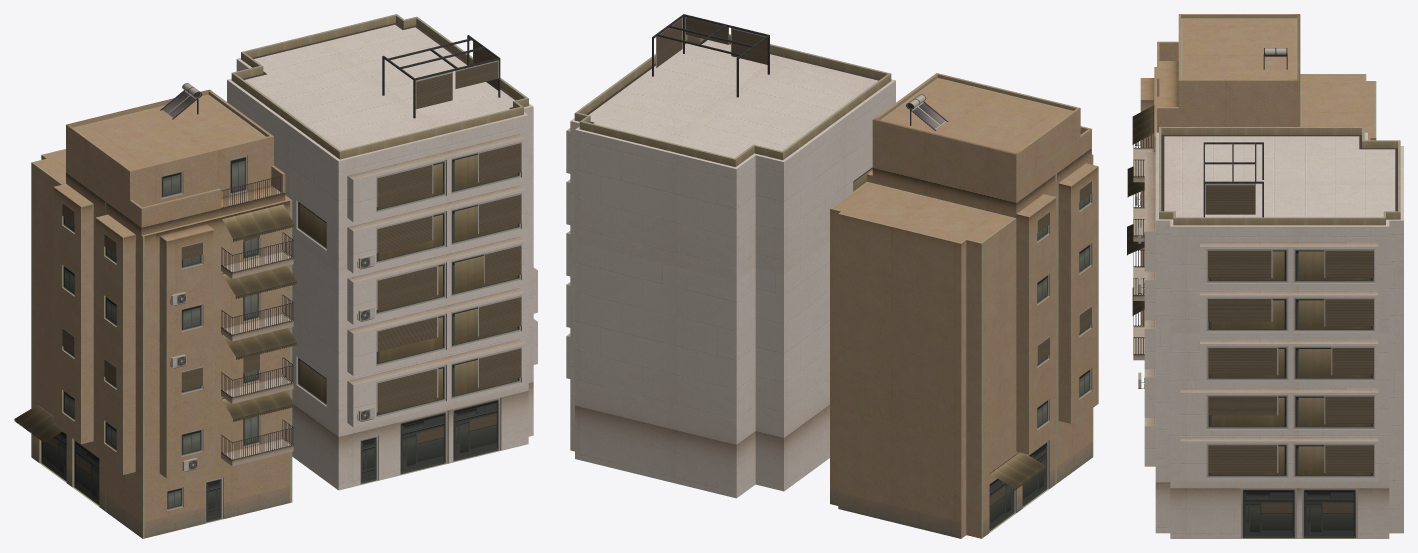
The model's file is modular_modernist_mediterranean_buildings_kit.glb.
3 views of the same model, side by side, from view 1: azimuth 30°, elevation 25°; view 2: azimuth 150°, elevation 25°; view 3: azimuth 270°, elevation 25° (orthographic). The views are drawn at different scales.
Visible parts, largest first — view 1: Material3 (×10), Material2 (×6); view 2: Material3 (×6), Material2 (×4); view 3: Material3 (×5), Material2 (×6).
Part boxes in pixels (x1=…): Material3 (×10): x1=32, y1=24, x2=537, y2=538; Material2 (×6): x1=14, y1=14, x2=528, y2=538; Material3 (×6): x1=566, y1=14, x2=1098, y2=538; Material2 (×4): x1=574, y1=17, x2=1098, y2=538; Material3 (×5): x1=1140, y1=14, x2=1403, y2=538; Material2 (×6): x1=1127, y1=18, x2=1400, y2=538.
Size of what is drawn, in the model's own units: 1088 by 903 by 633.
Materials: 21 (18 with a texture image).
